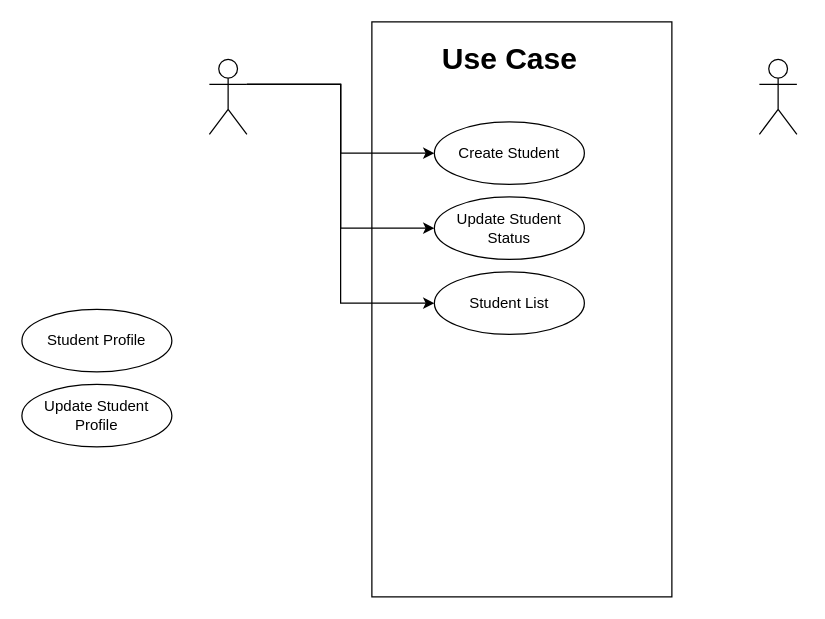
This 825x619 diagram has some shape labels left out. The centre of each missing label's shape, as x and y in pixels:
Admin: [227,96]
Student: [777,96]
